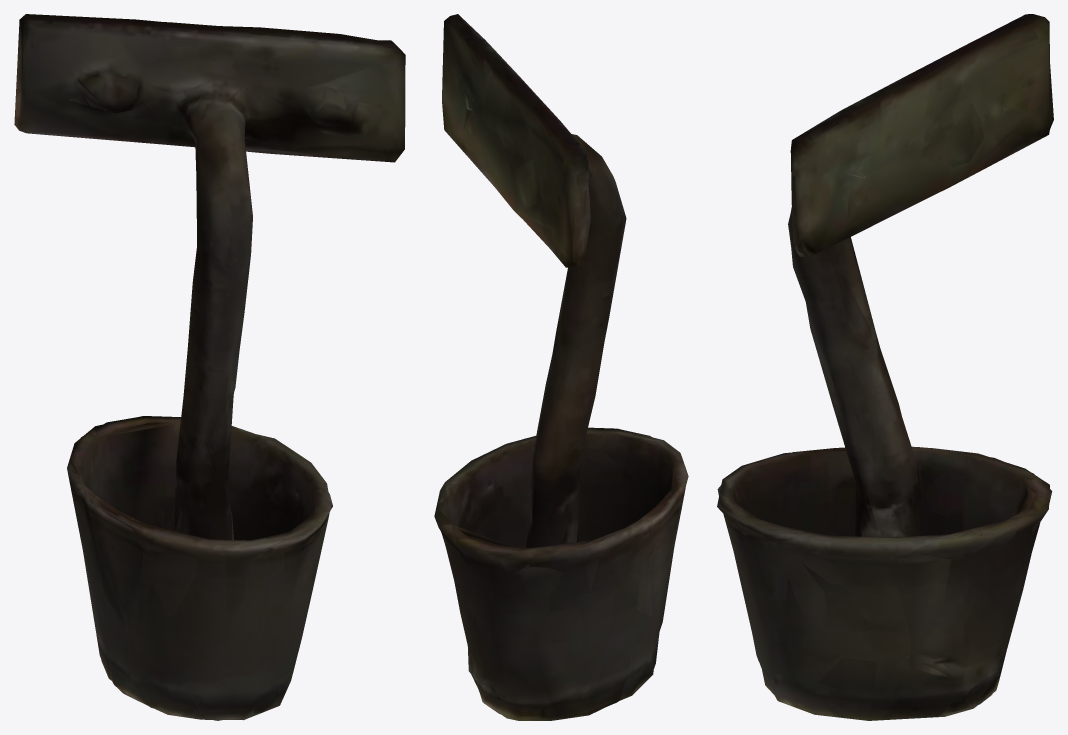
File: sconce.glb
The picture shows the model from 3 angles, left to right: view 1: azimuth 30°, elevation 25°; view 2: azimuth 150°, elevation 25°; view 3: azimuth 270°, elevation 25°; orthographic projection. The views are drawn at different scales.
Parts seen in each view (by area): view 1: torch-sconce; view 2: torch-sconce; view 3: torch-sconce.
Boxes of the visible parts, bbox=[...] form: torch-sconce: bbox=[14, 14, 405, 720]; torch-sconce: bbox=[434, 14, 688, 720]; torch-sconce: bbox=[717, 14, 1053, 720].
Bounding box in the file's own units: 0.1972 × 0.4485 × 0.2169.
1 material, 1 textured.
